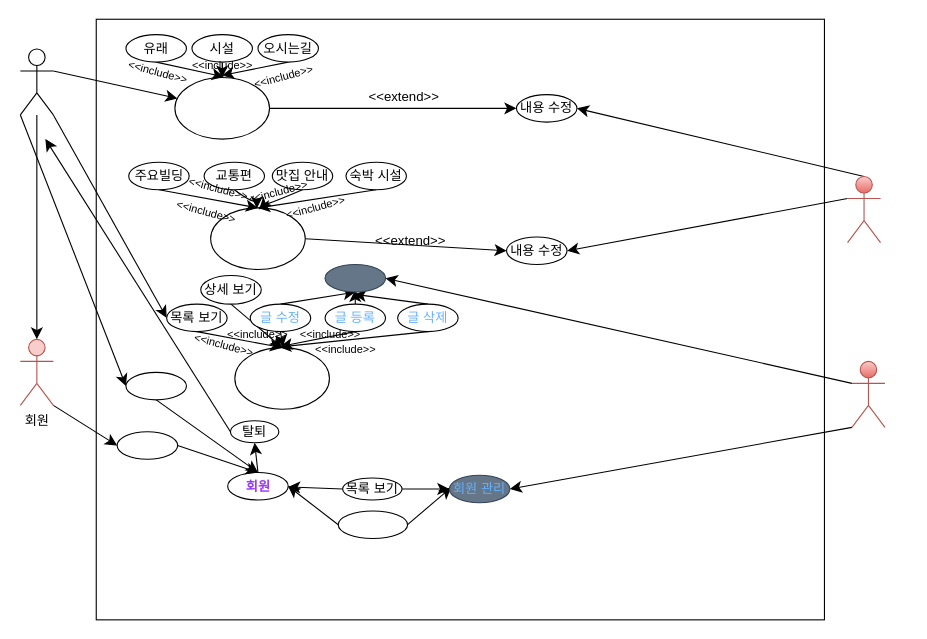
This 927x639 diagram has some shape labels left out. Each missing label, with the centre of its shape:
"공지사항" goes at point 281,377.
"글 관리" goes at point 355,277.
"로그인" goes at point 147,445.
"비회원" goes at point 36,81.
"상세 정보" goes at point 372,524.
"이용안내" goes at point 257,238.
"지역소개" goes at point 222,107.
"콘텐츠 관리자" goes at point 863,209.
"회원 가입" goes at point 155,385.
"회원/글 관리자" goes at point 868,393.
